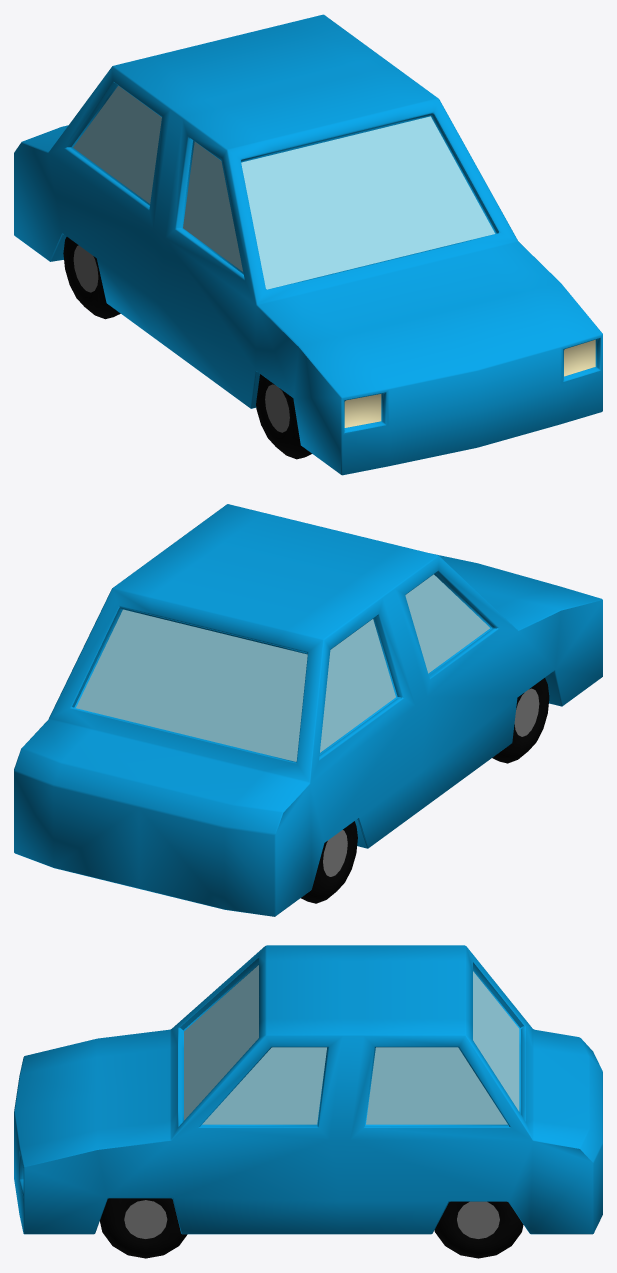
File: Car.glb
The picture shows the model from 3 angles, top to bottom: view 1: azimuth 30°, elevation 25°; view 2: azimuth 150°, elevation 25°; view 3: azimuth 270°, elevation 25°; orthographic projection. The views are drawn at different scales.
Parts seen in each view (by area): view 1: Car; view 2: Car; view 3: Car.
Part boxes in pixels (bbox=[...]): Car: bbox=[14, 14, 602, 475]; Car: bbox=[14, 504, 602, 916]; Car: bbox=[14, 945, 602, 1258].
Bounding box in the file's own units: 2.52 × 2.32 × 5.64.
1 material, 1 textured.
